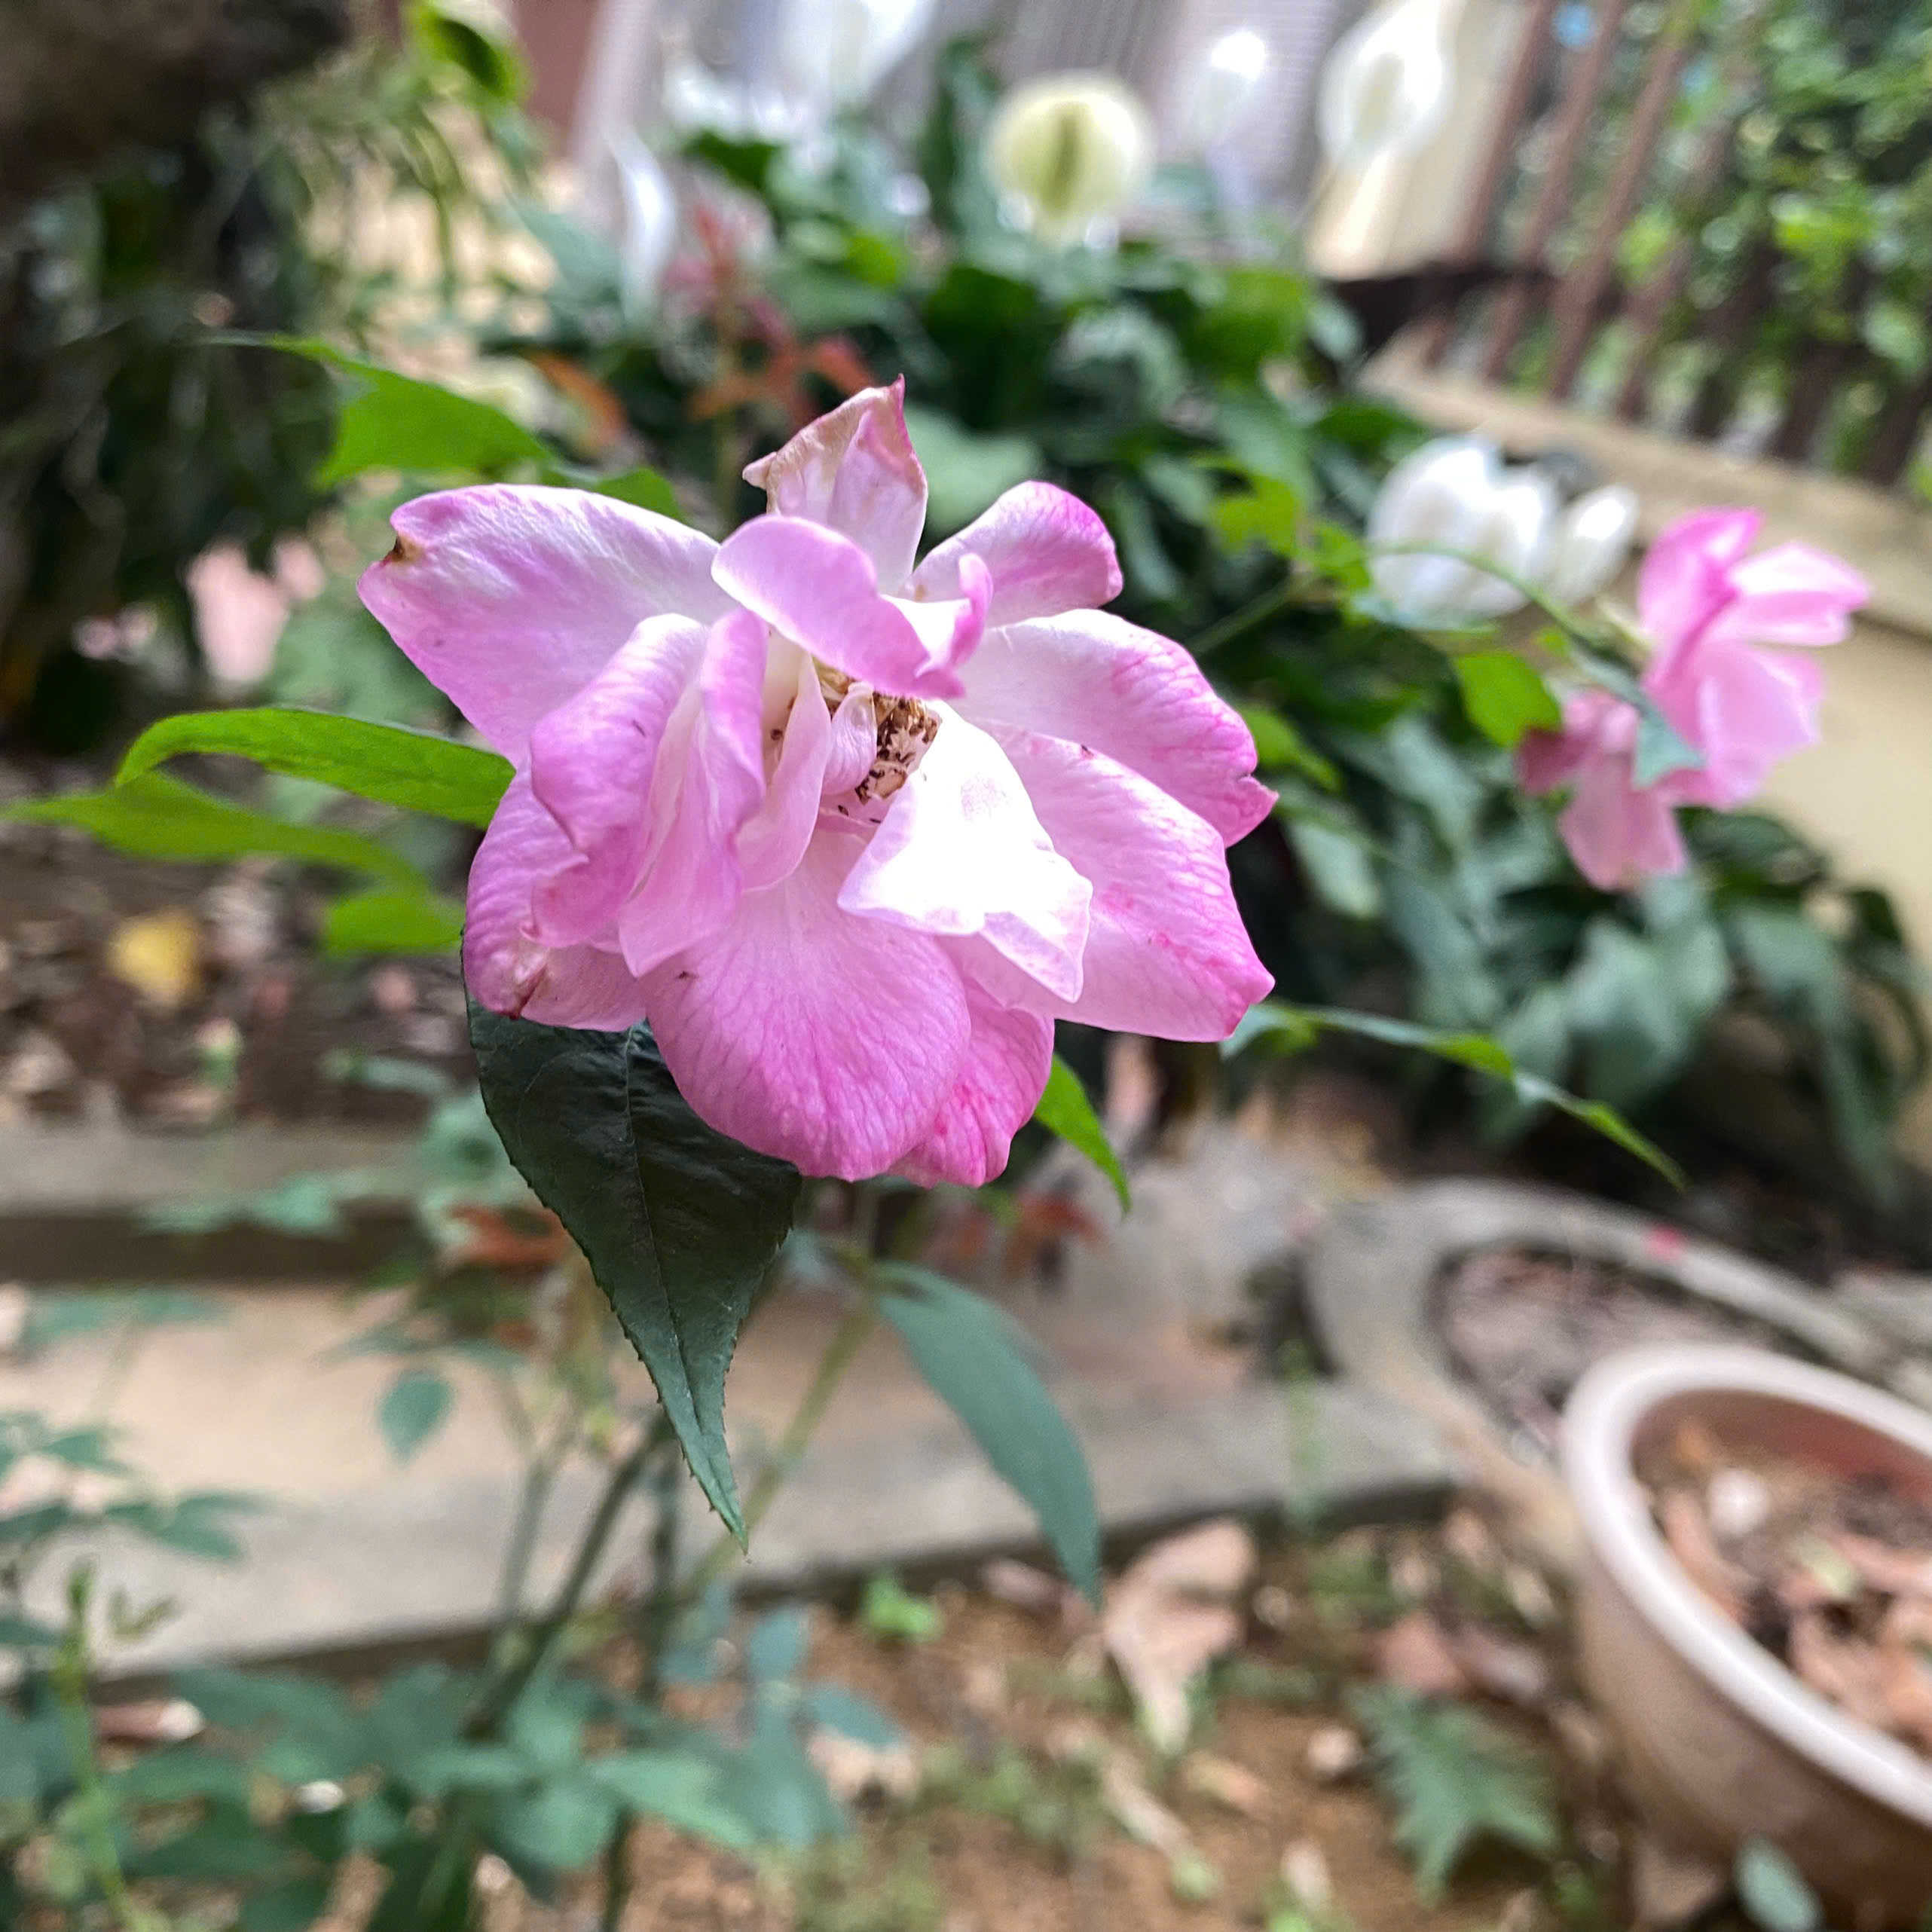hoa_hong_phan: (154, 377, 1391, 1543)
